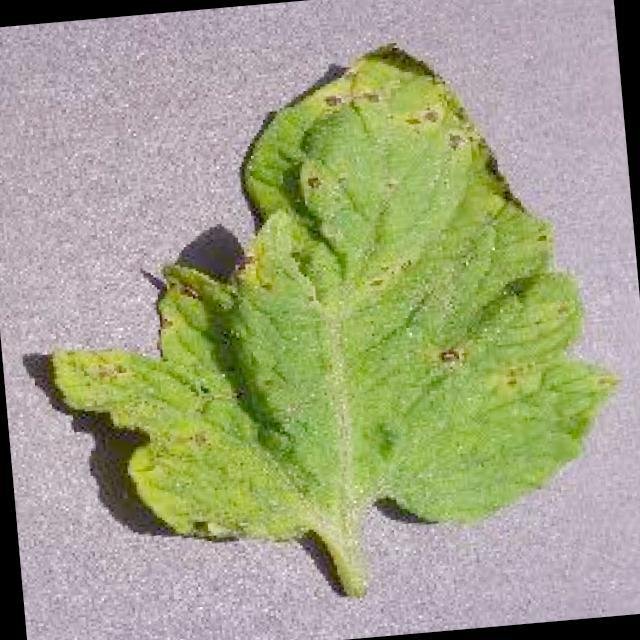Tomato Septoria spot leaf: (20, 32, 630, 555)
